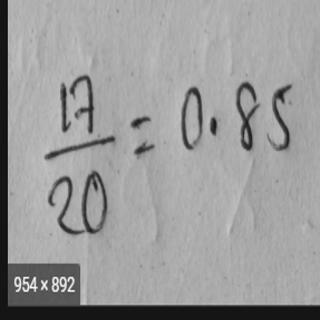.: (204, 112, 225, 136)
0: (179, 84, 204, 153), (82, 169, 107, 234)
1: (56, 82, 74, 136)
2: (45, 173, 79, 241)
5: (266, 82, 293, 152)
7: (71, 75, 100, 133)
8: (234, 82, 259, 150)
